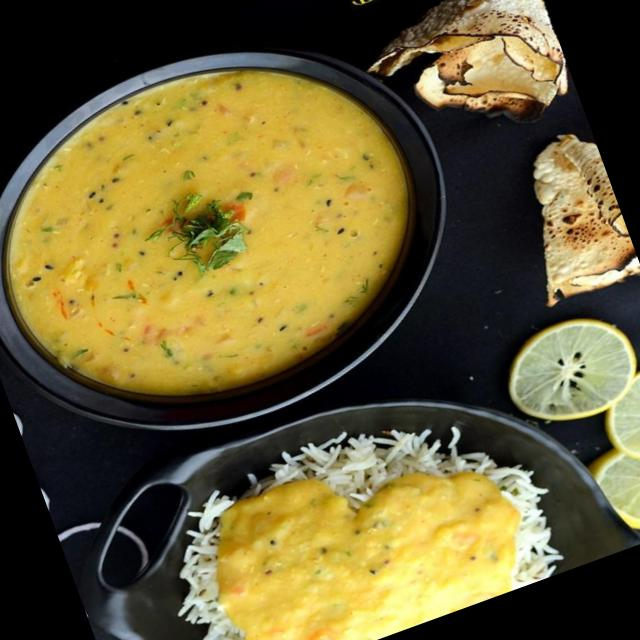dal: (0, 17, 457, 447), (183, 417, 534, 640)
rice: (146, 373, 564, 640)
